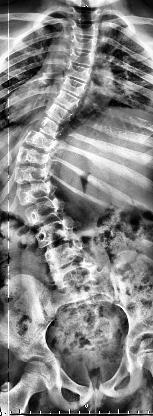Vertebrae: (44, 240, 92, 270), (34, 219, 78, 249), (52, 262, 102, 286), (24, 198, 66, 226), (16, 179, 56, 205), (13, 164, 54, 184), (24, 130, 56, 152), (16, 146, 51, 166), (46, 104, 74, 128), (36, 115, 64, 139), (54, 89, 82, 112), (60, 76, 88, 98), (70, 32, 98, 52), (67, 50, 97, 68), (66, 62, 93, 82), (70, 21, 103, 37), (71, 7, 103, 22)
